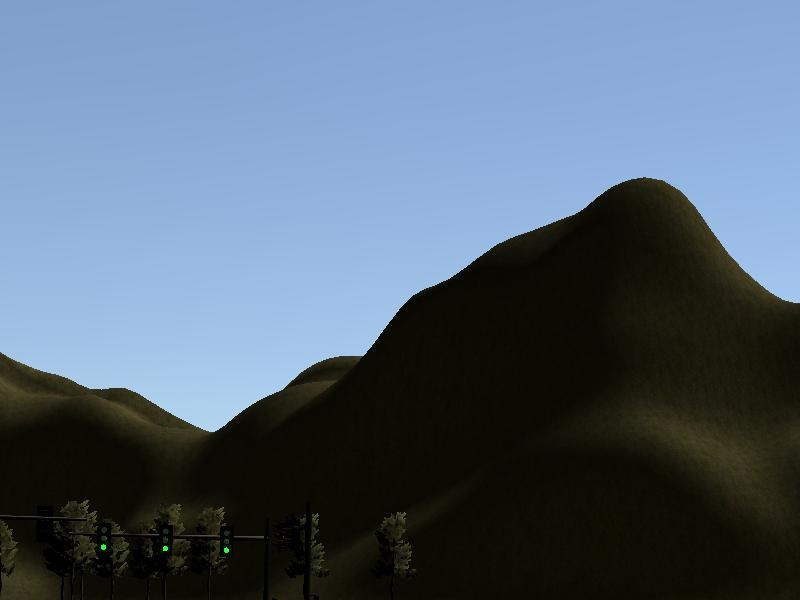GREEN: (156, 522, 175, 558), (94, 520, 113, 554), (216, 527, 236, 559)
